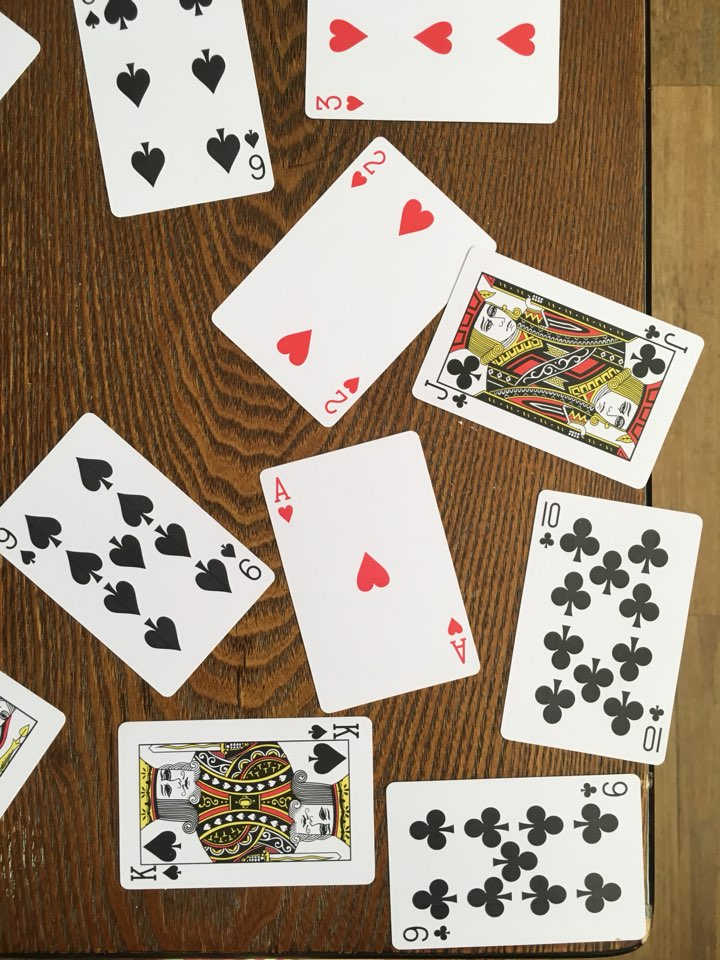ace: (256, 419, 491, 719)
king: (410, 243, 703, 496), (108, 714, 385, 894)
nine: (1, 403, 287, 705), (374, 765, 663, 956)
ten: (492, 480, 705, 770)
